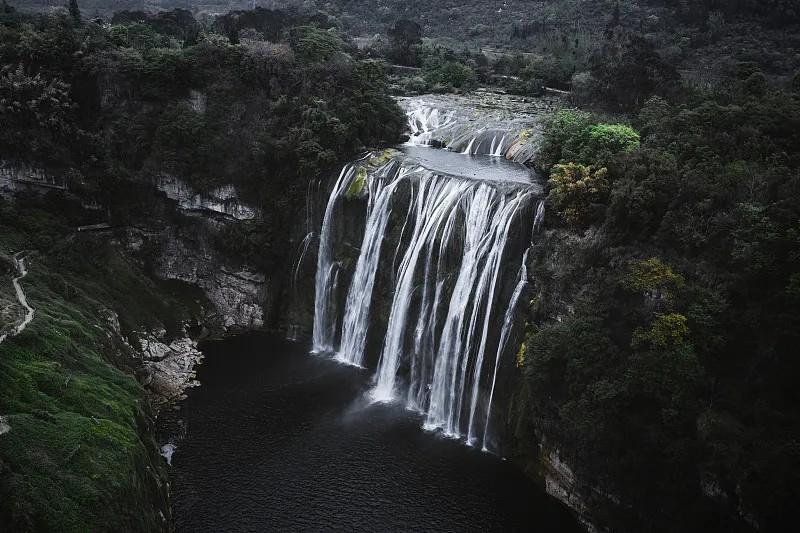Huangguoshu: (312, 107, 529, 448)
